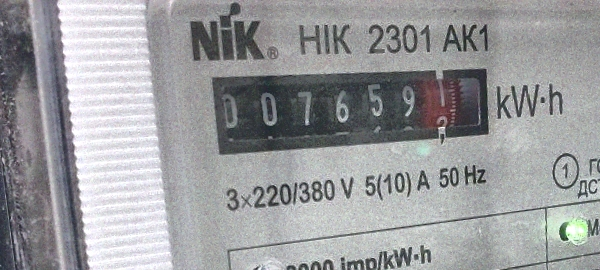0: (254, 86, 283, 130), (215, 88, 243, 132)
1: (431, 76, 452, 111)
5: (363, 79, 388, 120)
6: (328, 85, 354, 126)
7: (293, 86, 317, 128)
9: (397, 81, 419, 120)
screen: (199, 32, 505, 188)
